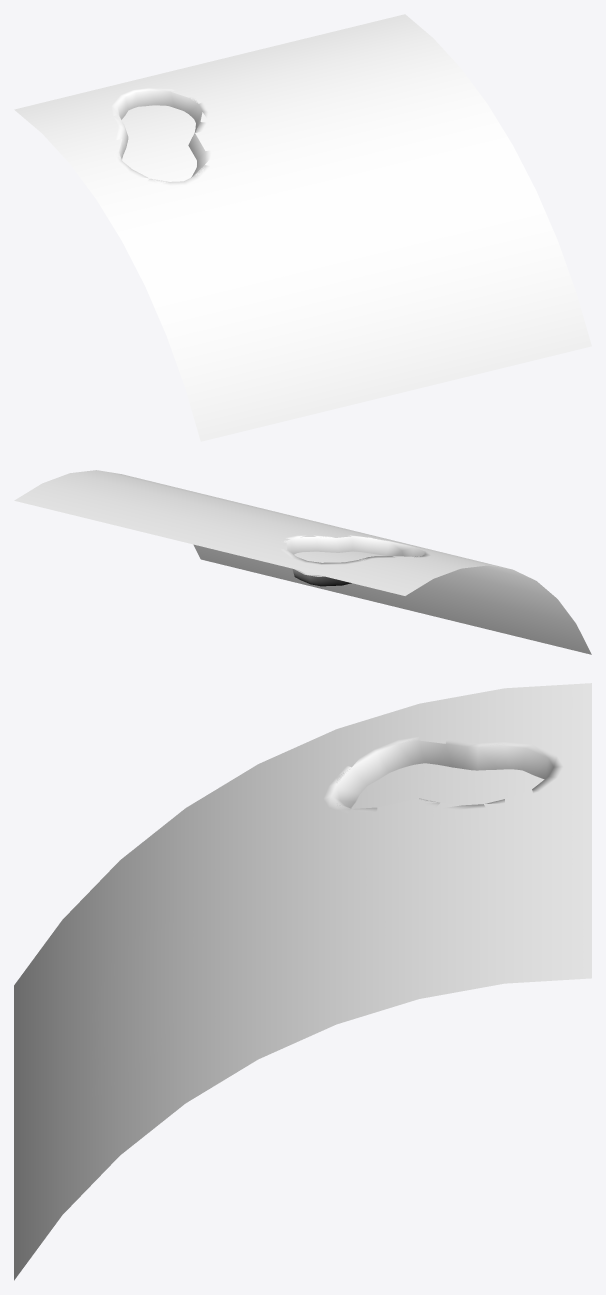
The model's file is grd_F_O_2.dae.
3 views of the same model, one above another, from view 1: azimuth 30°, elevation 25°; view 2: azimuth 150°, elevation 25°; view 3: azimuth 270°, elevation 25° (orthographic). The views are drawn at different scales.
Parts seen in each view (by area): view 1: grd_F_O_2; view 2: grd_F_O_2; view 3: grd_F_O_2.
Part boxes in pixels (left/top/right/bottom): grd_F_O_2: left=14, top=14, right=591, bottom=441; grd_F_O_2: left=14, top=470, right=591, bottom=654; grd_F_O_2: left=14, top=683, right=591, bottom=1280.
Bounding box in the file's own units: 512 × 244 × 423.
5 materials, 1 textured.
